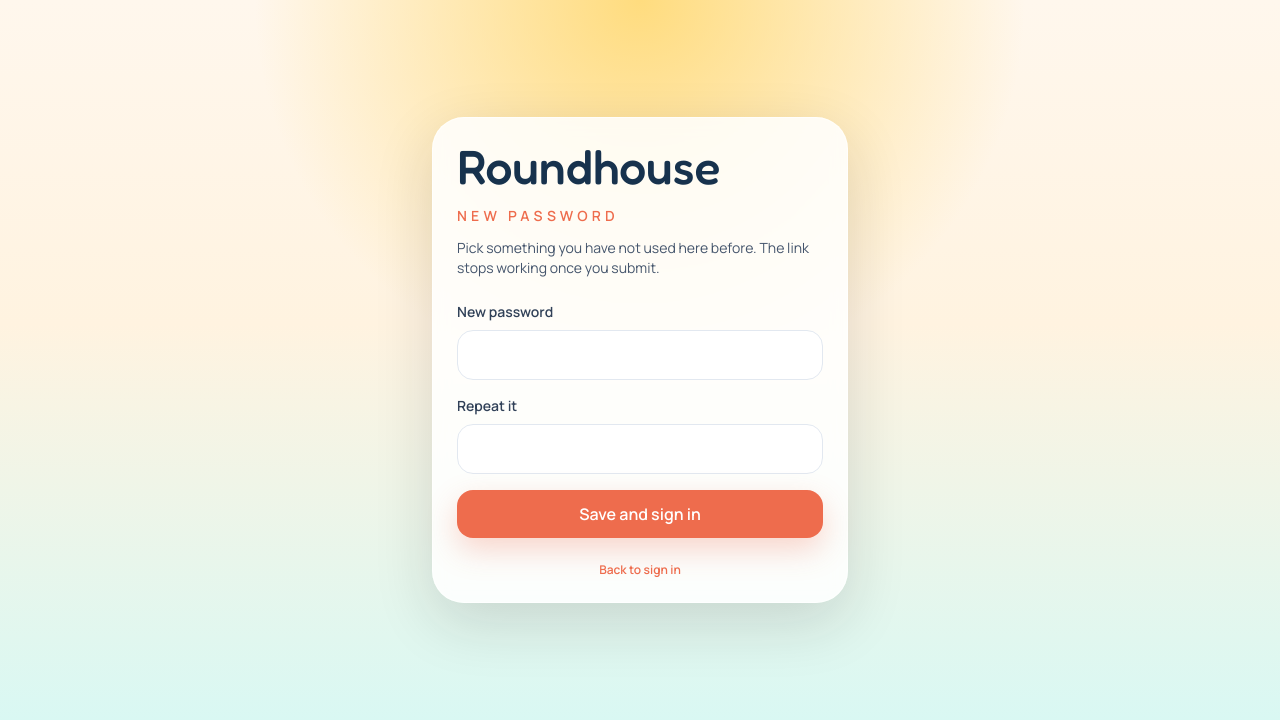
Test case: ResetPasswordPage › refuses a mismatch without spending the token
Type "correct horse battery" into the password field labelled "New password" at (640, 355), box x1=457 y1=330 x2=823 y2=380
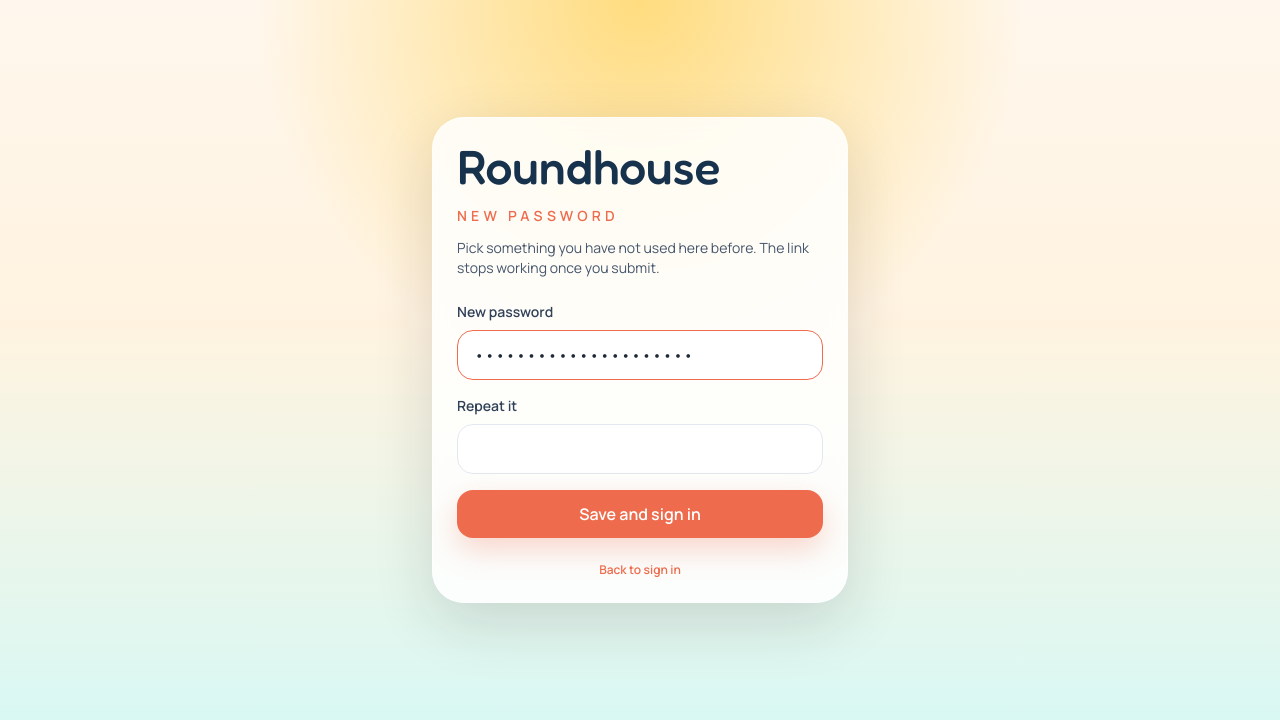
Type "correct horse batteru" into the password field labelled "Repeat it" at (640, 449), box x1=457 y1=424 x2=823 y2=474
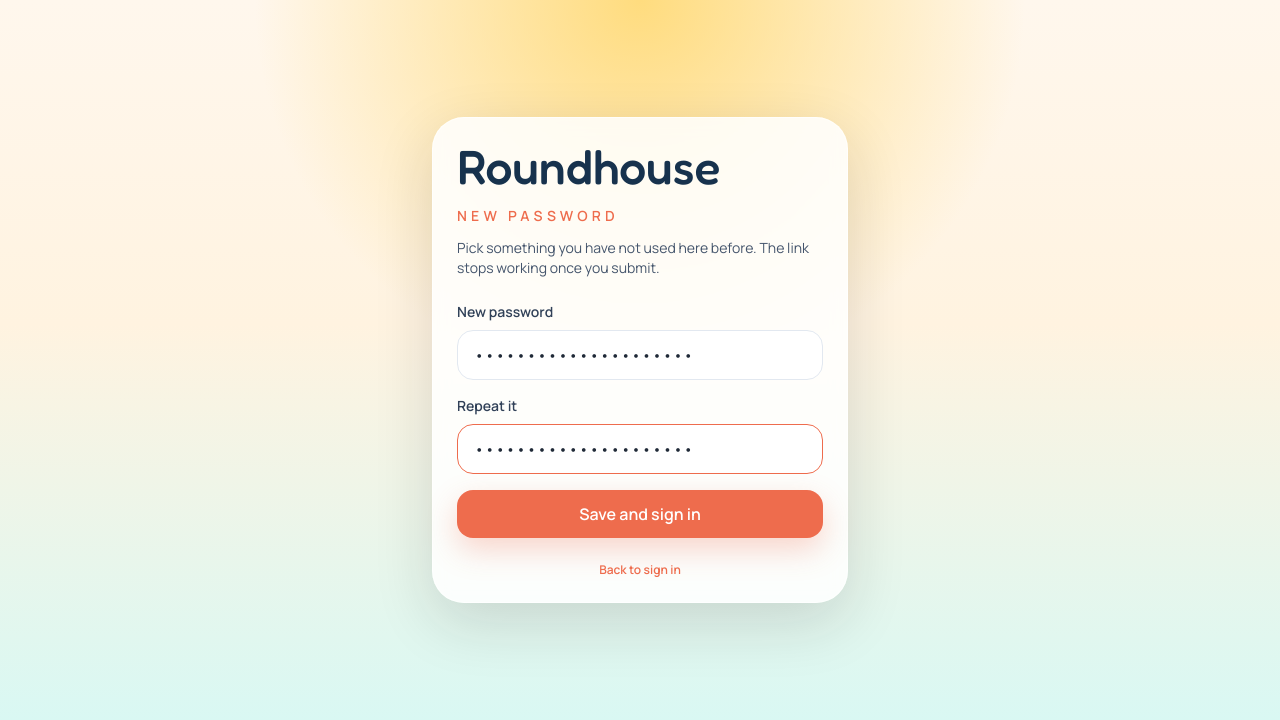
Click the button "Save and sign in" at (640, 514), box x1=457 y1=490 x2=823 y2=538
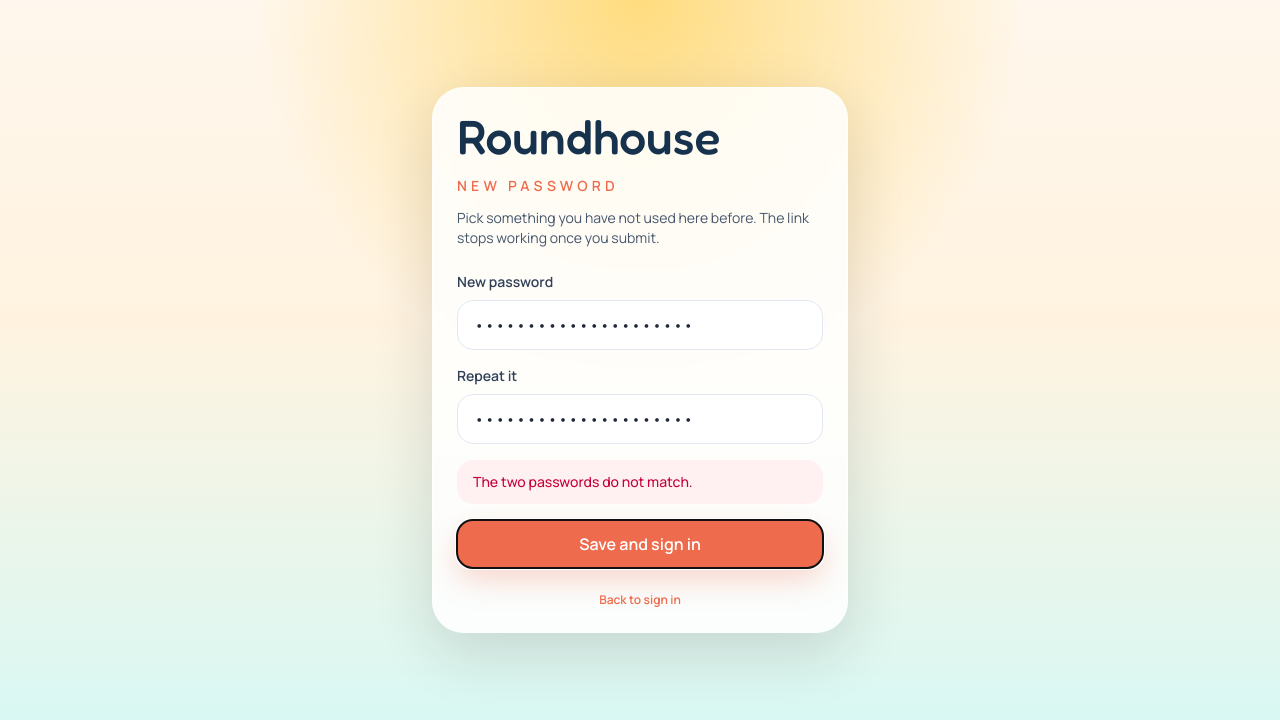
Expected: the message shows "do not match", x1=473 y1=472 x2=693 y2=491
